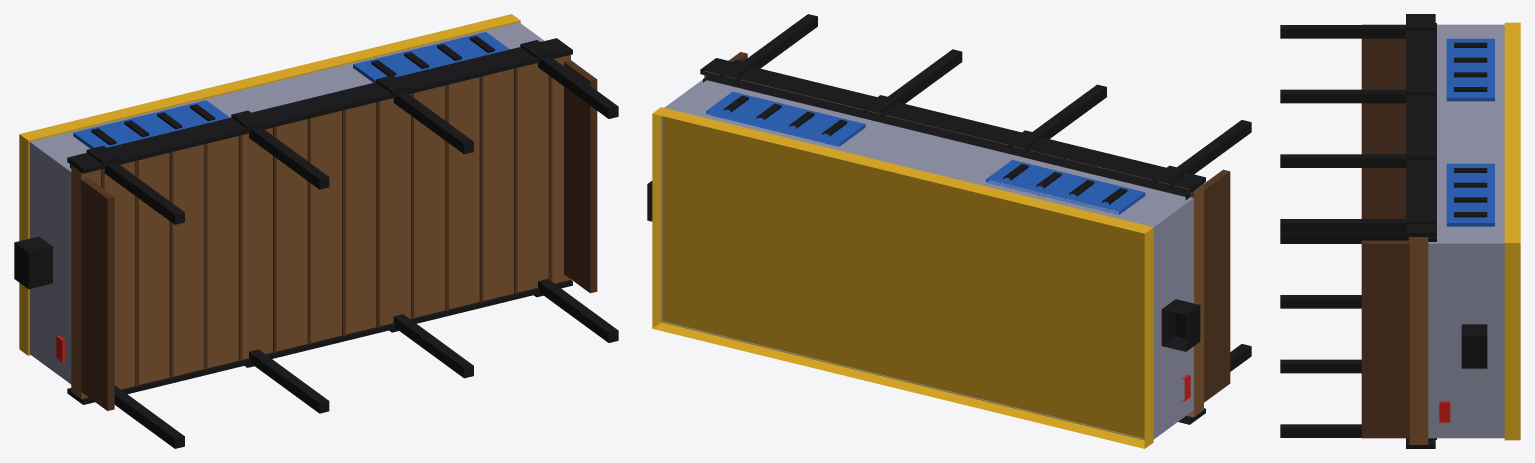
File: empty.glb
3 renders of one model, left to right at view 1: azimuth 30°, elevation 25°; view 2: azimuth 150°, elevation 25°; view 3: azimuth 270°, elevation 25°, orthographic. The views are drawn at different scales.
Parts seen in each view (by area): view 1: empty_deck, empty_base, empty_side1_-3.50_1.90, empty_bulkhead-1, empty_stripe, empty_bulkhead1, empty_side-1_-3.50_1.90, empty_pod10, empty_pod11, empty_coupler-1, empty_stake-12, empty_stake-11 (+19 smaller); view 2: empty_stripe, empty_base, empty_side1_-3.50_1.90, empty_bulkhead-1, empty_pod11, empty_pod10, empty_deck, empty_base_lip, empty_coupler-1, empty_stake10, empty_stake12, empty_stake13 (+1 smaller); view 3: empty_base, empty_bulkhead1, empty_stripe, empty_bulkhead-1, empty_side1_-3.50_1.90, empty_deck, empty_pod11, empty_pod10, empty_stake11, empty_stake10, empty_stake12, empty_stake13 (+11 smaller).
Boxes of the visible parts, <box> form: empty_deck: <box>71,55,570,398</box>; empty_base: <box>29,22,544,383</box>; empty_side1_-3.50_1.90: <box>67,38,572,173</box>; empty_bulkhead-1: <box>81,178,114,410</box>; empty_stripe: <box>19,14,520,355</box>; empty_bulkhead1: <box>564,60,597,293</box>; empty_side-1_-3.50_1.90: <box>67,280,572,404</box>; empty_pod10: <box>73,100,229,148</box>; empty_pod11: <box>353,32,509,82</box>; empty_coupler-1: <box>14,236,52,289</box>; empty_stake-12: <box>393,314,473,378</box>; empty_stake-11: <box>249,349,329,413</box>; empty_stripe: <box>652,107,1153,448</box>; empty_base: <box>661,79,1193,439</box>; empty_side1_-3.50_1.90: <box>700,58,1205,193</box>; empty_bulkhead-1: <box>1204,169,1230,402</box>; empty_pod11: <box>706,91,865,146</box>; empty_pod10: <box>986,160,1145,214</box>; empty_deck: <box>704,71,1203,417</box>; empty_base_lip: <box>703,76,1190,416</box>; empty_coupler-1: <box>1161,299,1200,351</box>; empty_stake10: <box>1177,120,1251,174</box>; empty_stake12: <box>888,49,962,103</box>; empty_stake13: <box>743,14,817,68</box>; empty_base: <box>1428,24,1504,438</box>; empty_bulkhead1: <box>1361,240,1409,438</box>; empty_stripe: <box>1504,22,1520,440</box>; empty_bulkhead-1: <box>1361,24,1405,218</box>; empty_side1_-3.50_1.90: <box>1406,14,1435,236</box>; empty_deck: <box>1409,237,1428,444</box>; empty_pod11: <box>1446,163,1494,226</box>; empty_pod10: <box>1446,38,1494,101</box>; empty_stake11: <box>1280,89,1405,103</box>; empty_stake10: <box>1280,25,1405,38</box>; empty_stake12: <box>1280,154,1405,167</box>; empty_stake13: <box>1280,219,1405,232</box>.
Bounding box in the file's own units: 7.7 × 3.3 × 3.25.
